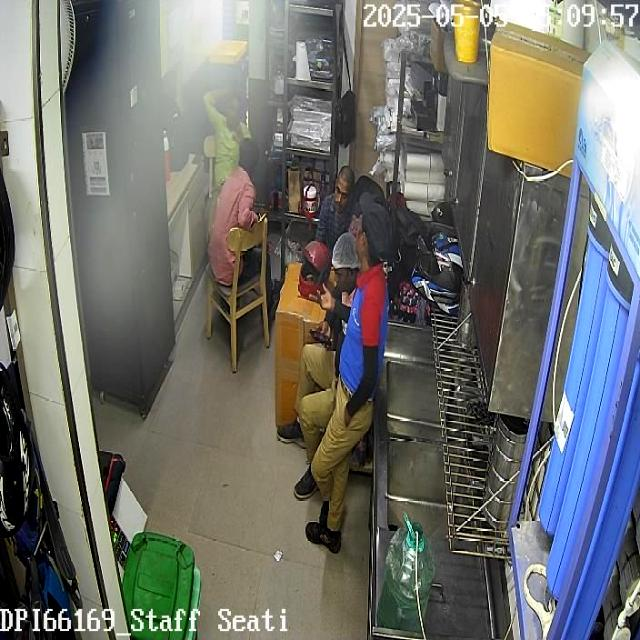helmet: (297, 239, 332, 295)
